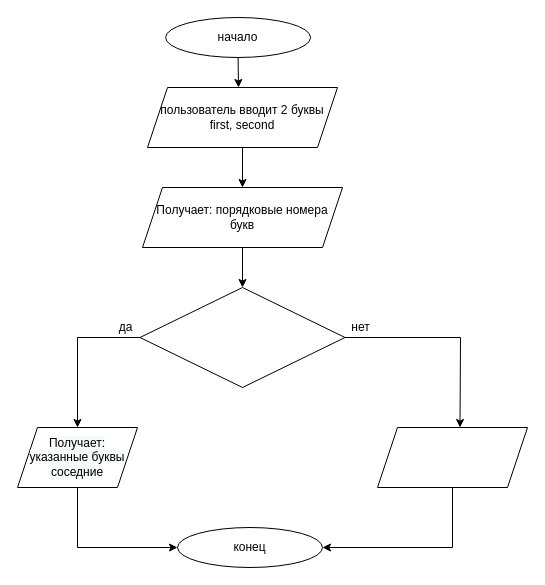
Some shapes in this 545 by 585 pixel diagram are drawn without their labels. The box of each missing label's shape, as (x1, y1, x2, y2) in pixels:
abs(orb(first) - ord(second)) == 1: (139, 286, 345, 388)
Получает: количество букв между указанными: (376, 426, 528, 488)
